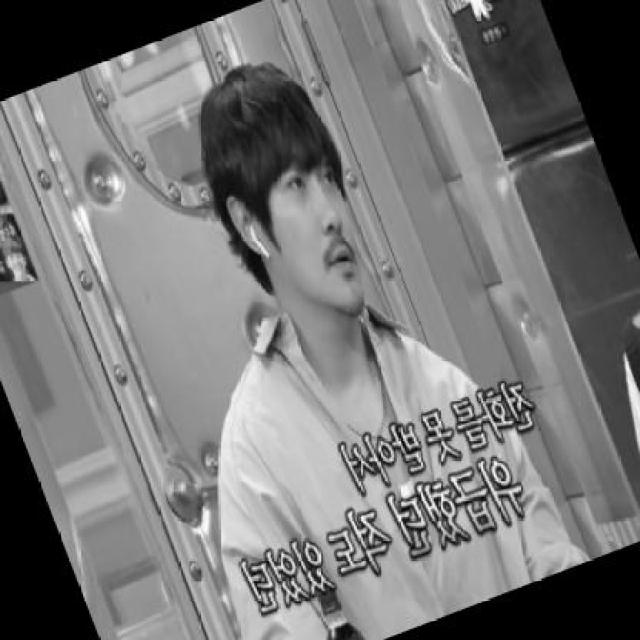earphone: (238, 219, 280, 270)
